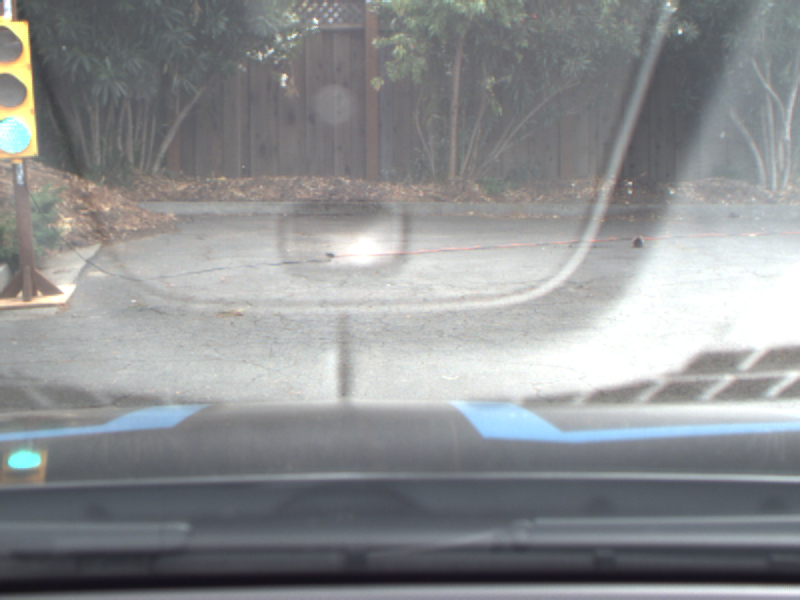green: (1, 20, 40, 157)
